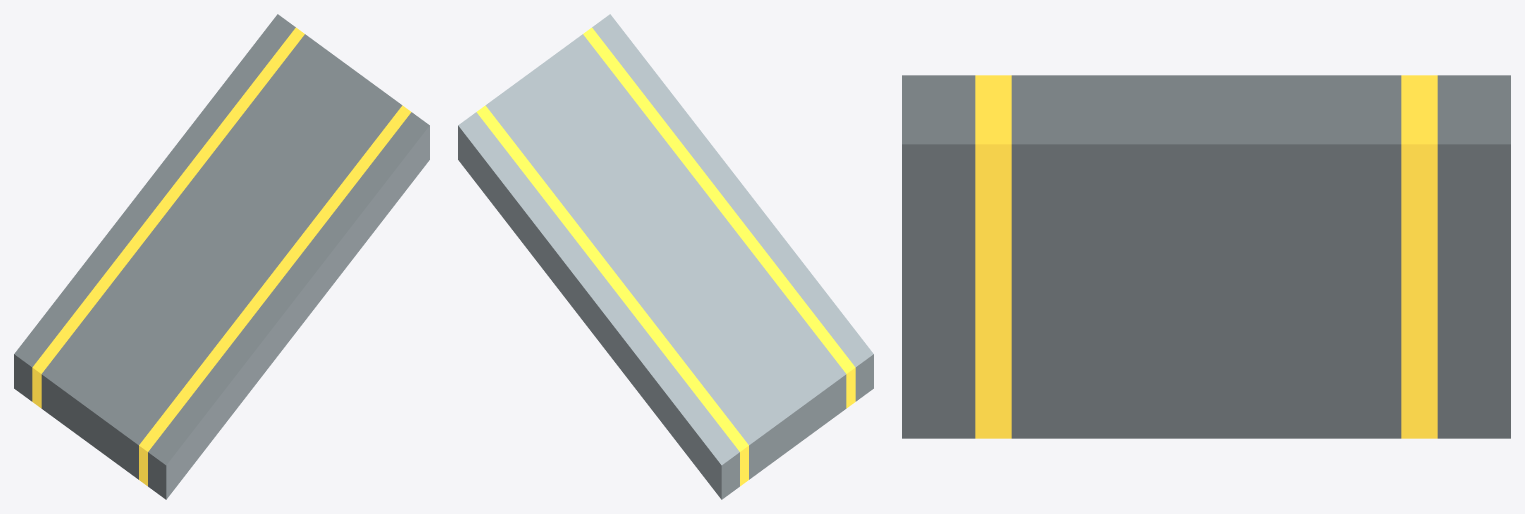
Rendered from SM_Platform45Degree_v0.fbx.
3 renders of one model, left to right at view 1: azimuth 30°, elevation 25°; view 2: azimuth 150°, elevation 25°; view 3: azimuth 270°, elevation 25°, orthographic. The views are drawn at different scales.
Parts seen in each view (by area): view 1: SM_Platform45Degree_v0; view 2: SM_Platform45Degree_v0; view 3: SM_Platform45Degree_v0.
Part boxes in pixels (x1,y1,x2,y2): SM_Platform45Degree_v0: (14, 14, 429, 499); SM_Platform45Degree_v0: (458, 14, 873, 499); SM_Platform45Degree_v0: (902, 75, 1510, 438).
Size of the model in its own units: 1 by 1.12 by 1.
